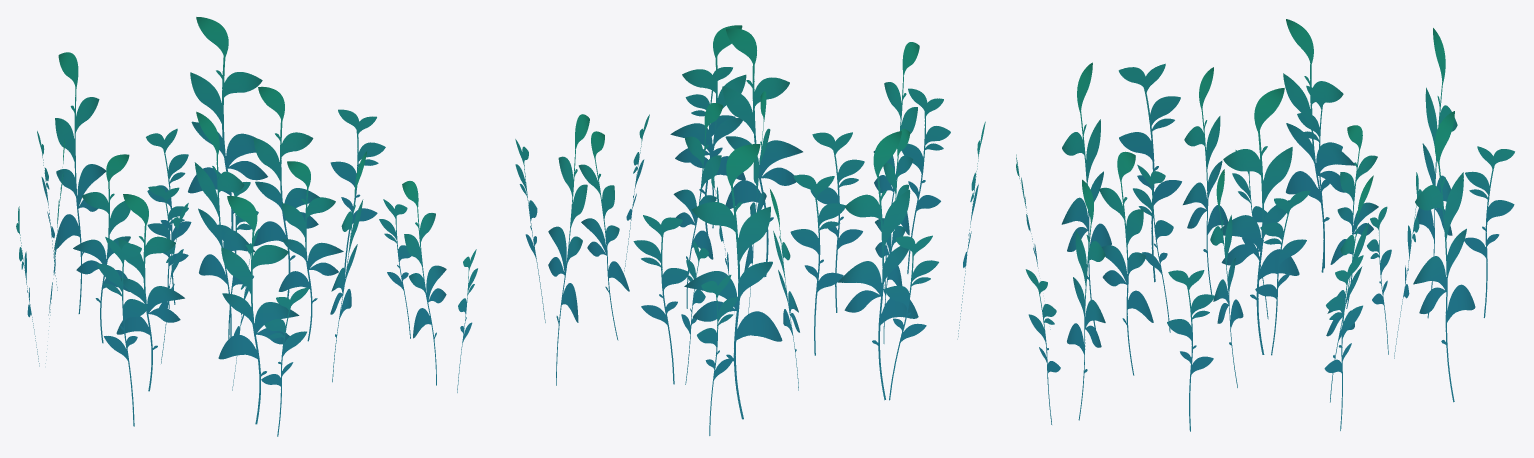
The picture shows the model from 3 angles, left to right: view 1: azimuth 30°, elevation 25°; view 2: azimuth 150°, elevation 25°; view 3: azimuth 270°, elevation 25°; orthographic projection. The views are drawn at different scales.
Visible parts, largest first — view 1: submesh_0; view 2: submesh_0; view 3: submesh_0.
Boxes of the visible parts, x1,y1,x2,y2 form: submesh_0: (16,17,477,436); submesh_0: (515,25,985,435); submesh_0: (1016,19,1514,431).
Bounding box in the file's own units: 1.01 × 0.6601 × 1.05.
1 material, 1 textured.
